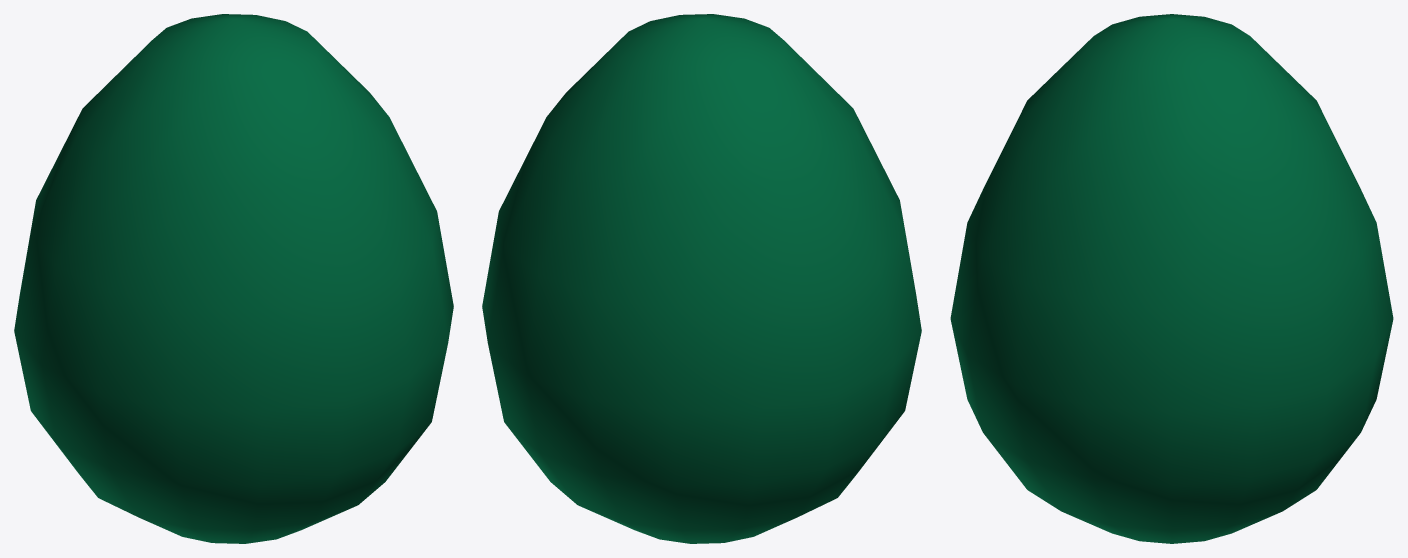
File: eggGreen02.glb
3 views of the same model, side by side, from view 1: azimuth 30°, elevation 25°; view 2: azimuth 150°, elevation 25°; view 3: azimuth 270°, elevation 25° (orthographic).
Parts seen in each view (by area): view 1: Sphere012; view 2: Sphere012; view 3: Sphere012.
Part boxes in pixels (<box>): Sphere012: <box>14,14,453,543</box>; Sphere012: <box>482,14,921,543</box>; Sphere012: <box>950,14,1393,543</box>.
Size of the model in its own units: 0.1403 by 0.1761 by 0.1403.
